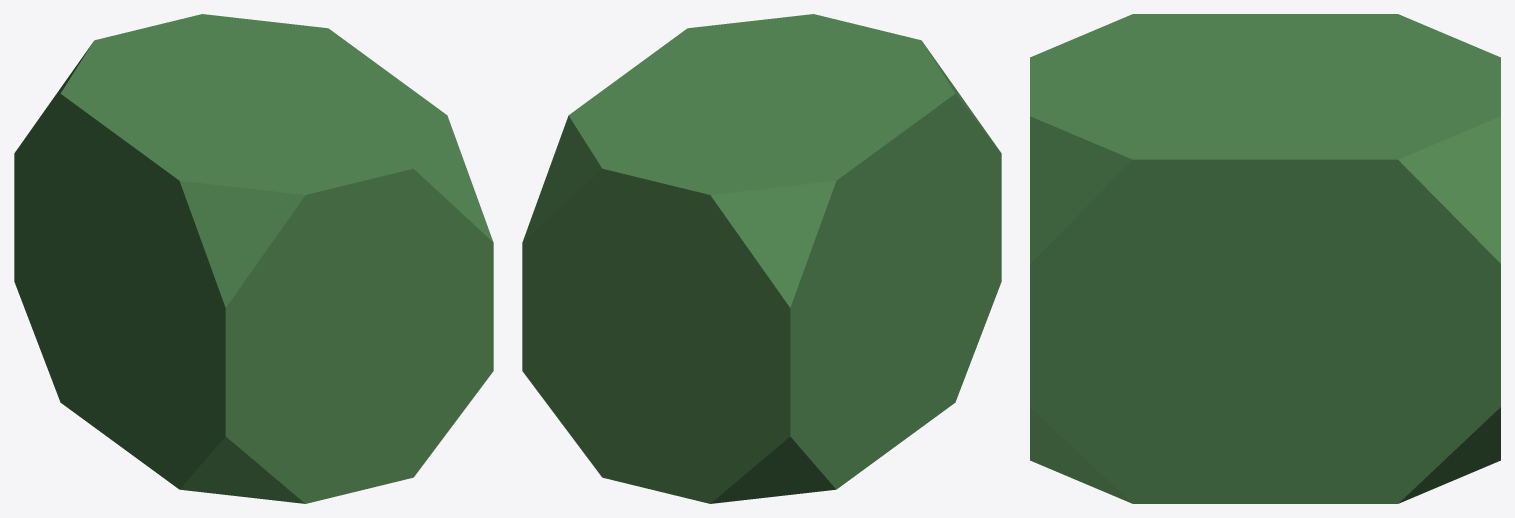
File: SimpleBushB.glb
The picture shows the model from 3 angles, left to right: view 1: azimuth 30°, elevation 25°; view 2: azimuth 150°, elevation 25°; view 3: azimuth 270°, elevation 25°; orthographic projection. The views are drawn at different scales.
Visible parts, largest first — view 1: Cube; view 2: Cube; view 3: Cube.
Part boxes in pixels (box(x1,y1,x2,y2)): Cube: box(14, 14, 493, 503); Cube: box(522, 14, 1001, 503); Cube: box(1030, 14, 1500, 503).
Size of the model in its own units: 1.3 by 1.43 by 1.78.
